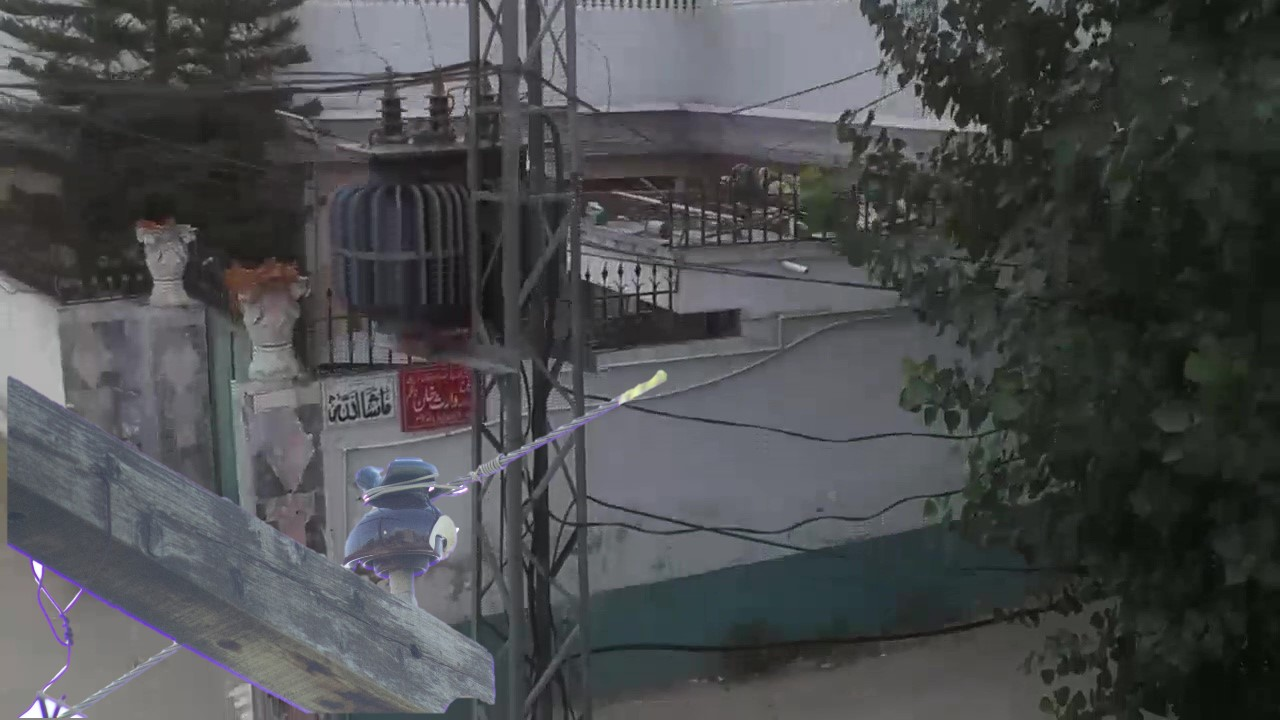defect_pin: (343, 452, 464, 581)
